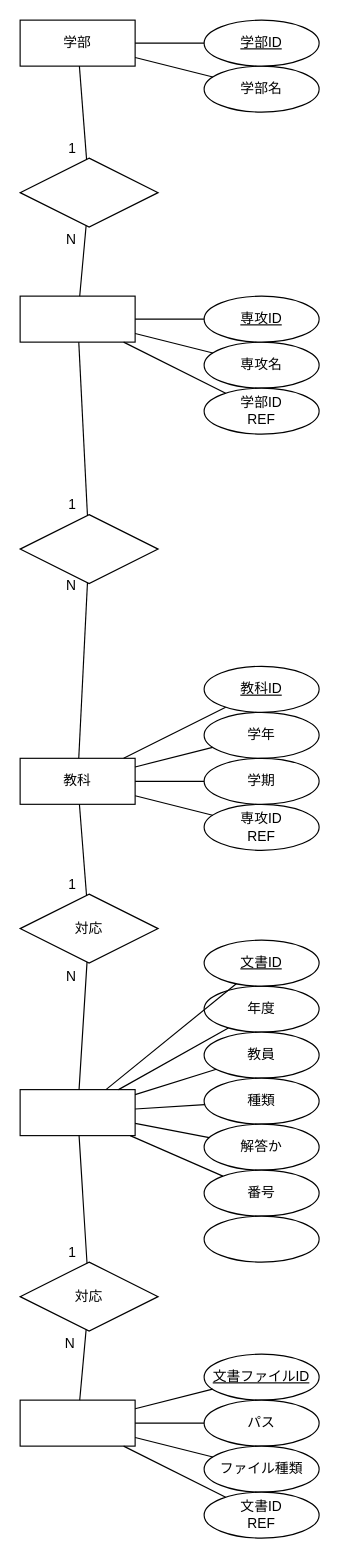
This 339x1558 diagram has some shape labels left out. Each missing label, with the centre of its shape:
実施: (88,548)
専攻: (77,318)
所持: (88,192)
教科ID REF: (261,1238)
文書: (77,1112)
文書ファイル: (77,1422)
